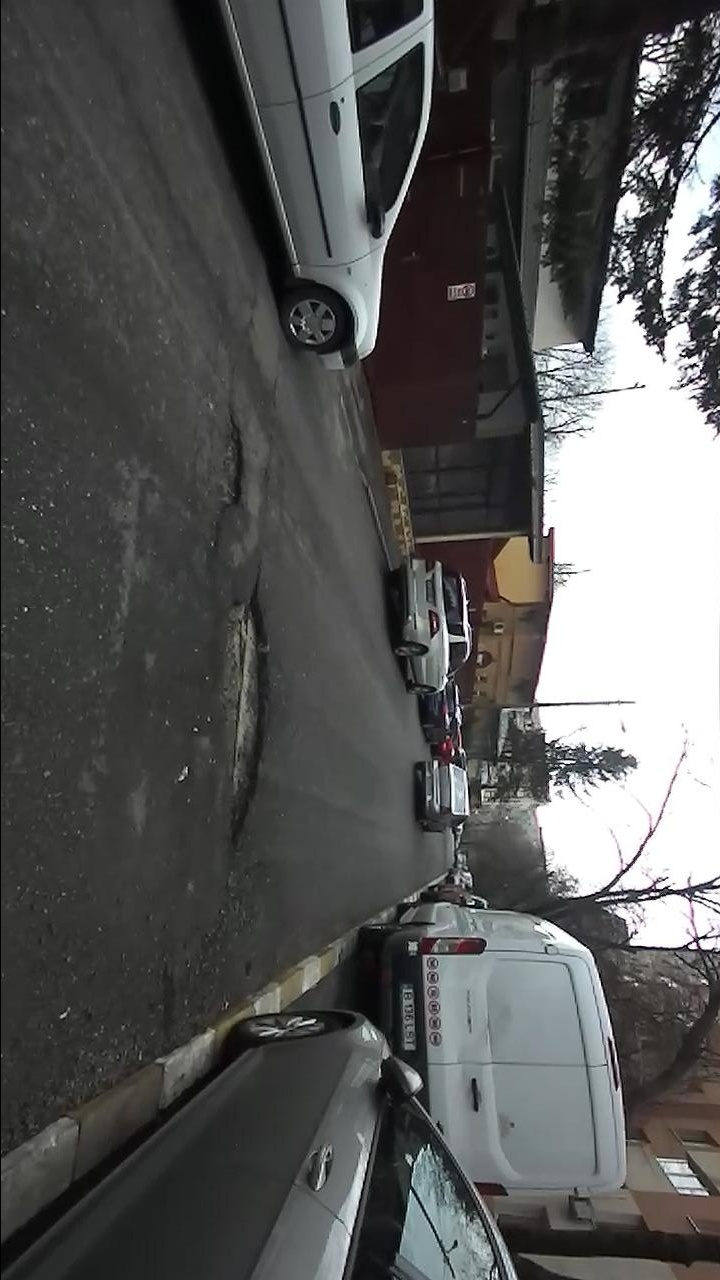pothole: (214, 581, 273, 858), (208, 409, 249, 548)
